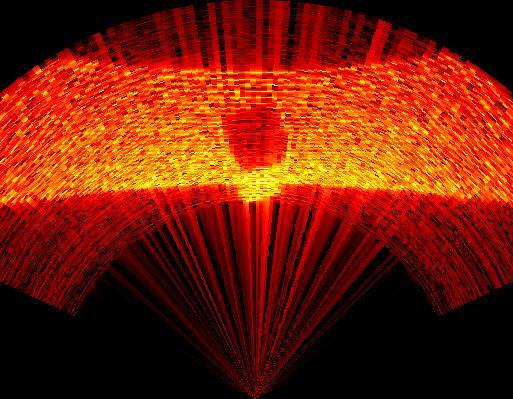box_crate: (216, 96, 294, 208)
